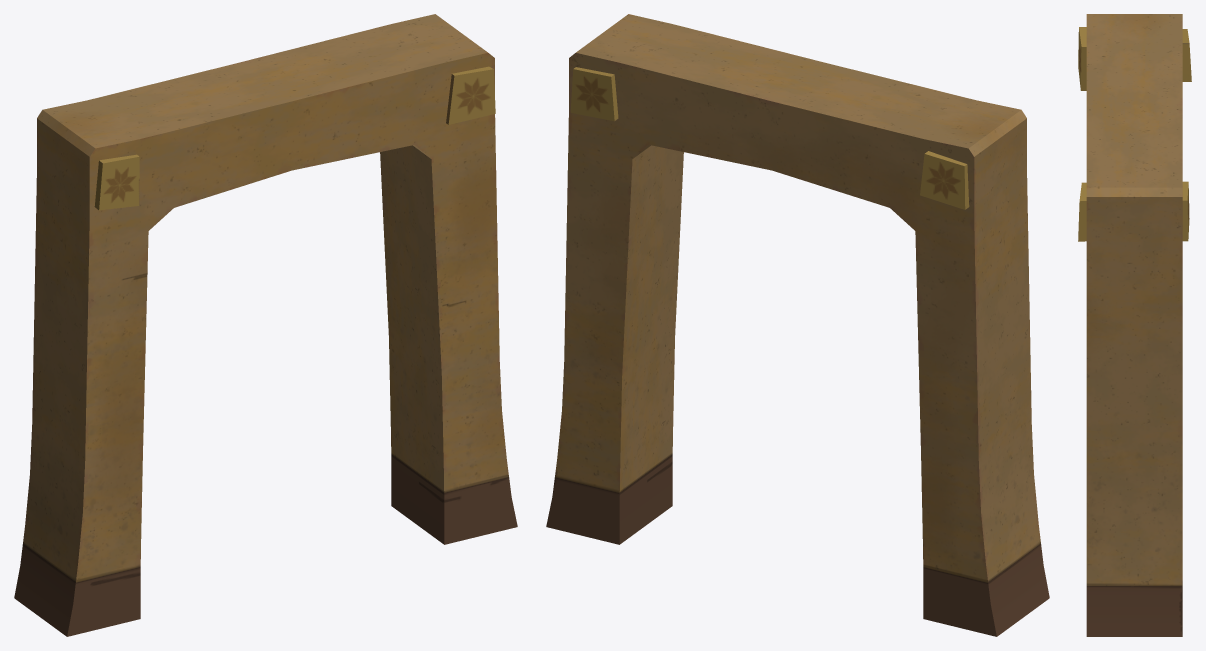
File: Doorframe.fbx
3 views of the same model, side by side, from view 1: azimuth 30°, elevation 25°; view 2: azimuth 150°, elevation 25°; view 3: azimuth 270°, elevation 25° (orthographic). The views are drawn at different scales.
Parts seen in each view (by area): view 1: DoorFrame; view 2: DoorFrame; view 3: DoorFrame.
Boxes of the visible parts, left/top/right/bottom form: DoorFrame: left=14, top=14, right=517, bottom=636; DoorFrame: left=546, top=14, right=1049, bottom=636; DoorFrame: left=1078, top=14, right=1191, bottom=636.
Size of the model in its own units: 367 by 376 by 88.62.
